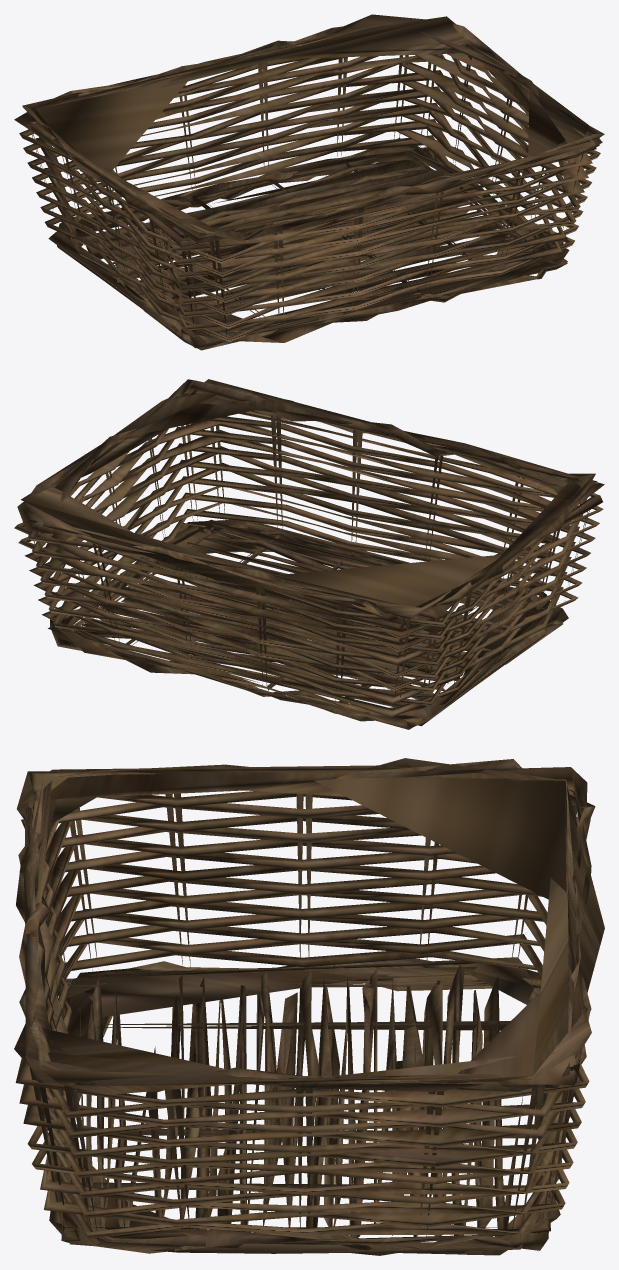
Rendered from wicker_basket_01.glb.
3 views of the same model, one above another, from view 1: azimuth 30°, elevation 25°; view 2: azimuth 150°, elevation 25°; view 3: azimuth 270°, elevation 25° (orthographic). The views are drawn at different scales.
Parts seen in each view (by area): view 1: lod0; view 2: lod0; view 3: lod0.
Part boxes in pixels (x1,y1,x2,y2): lod0: [14, 14, 604, 350]; lod0: [14, 379, 604, 729]; lod0: [14, 758, 604, 1255].
Size of what is drawn, in the model's own units: 0.3814 by 0.1213 by 0.2996.
Materials: 1 (1 with a texture image).
